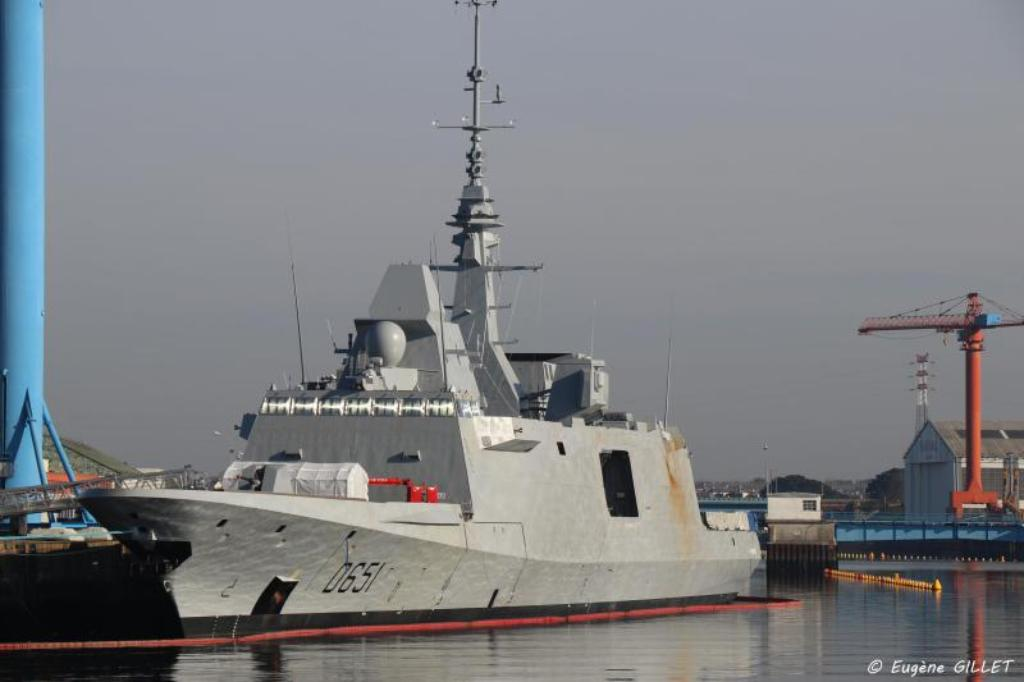Warship: (80, 0, 768, 646)
